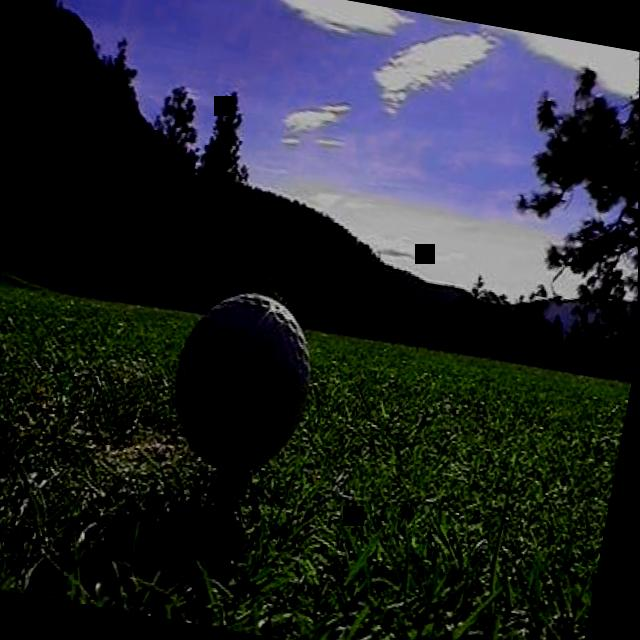golf ball: (152, 272, 330, 492)
